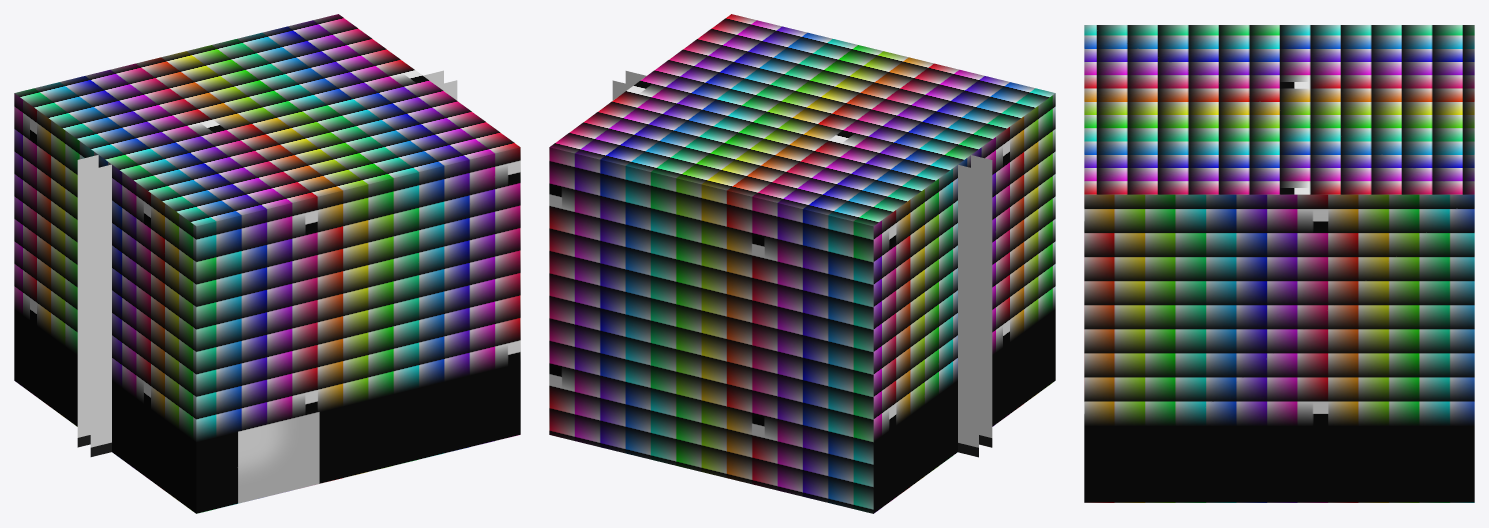
Rendered from door_4_whit.fbx.
3 views of the same model, side by side, from view 1: azimuth 30°, elevation 25°; view 2: azimuth 150°, elevation 25°; view 3: azimuth 270°, elevation 25° (orthographic). The views are drawn at different scales.
Parts seen in each view (by area): view 1: door_4_trigger, door_4_1; view 2: door_4_trigger, door_4_1; view 3: door_4_trigger.
Boxes of the visible parts, left/top/right/bottom form: door_4_trigger: left=14, top=14, right=520, bottom=513; door_4_1: left=77, top=70, right=457, bottom=456; door_4_trigger: left=549, top=14, right=1055, bottom=513; door_4_1: left=612, top=71, right=992, bottom=457; door_4_trigger: left=1084, top=25, right=1474, bottom=502.
Size of what is drawn, in the model's own units: 400 by 300 by 344.
